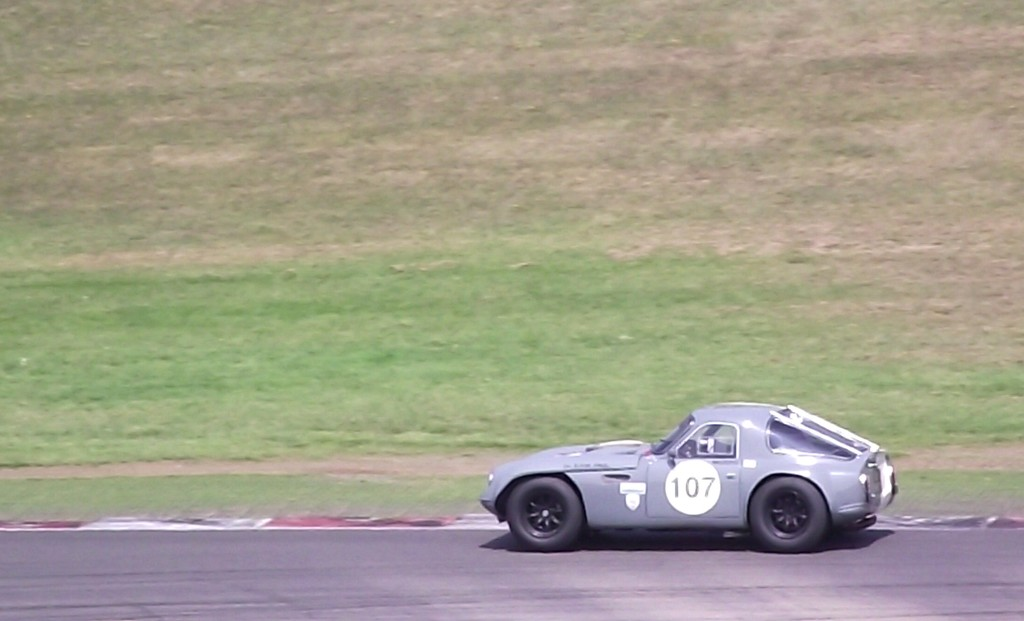Car: (478, 400, 897, 553)
